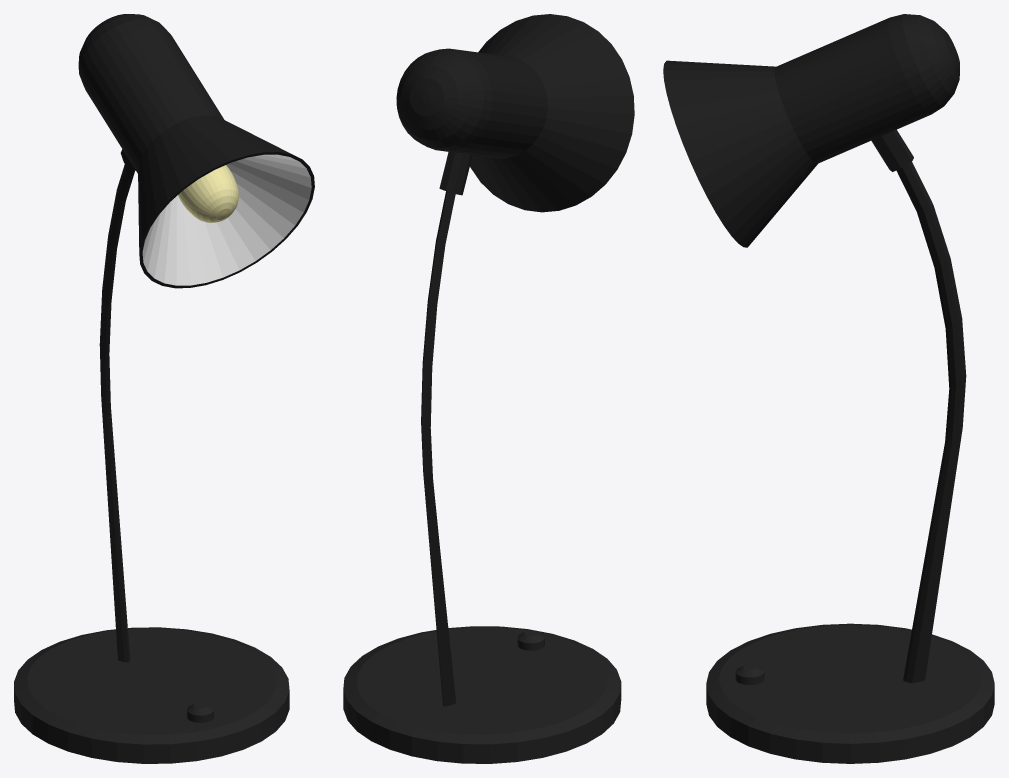
File: lamp_cahsi.glb
The picture shows the model from 3 angles, left to right: view 1: azimuth 30°, elevation 25°; view 2: azimuth 150°, elevation 25°; view 3: azimuth 270°, elevation 25°; orthographic projection. The views are drawn at different scales.
Visible parts, largest first — view 1: Cylinder, Cylinder.001; view 2: Cylinder, Cylinder.001; view 3: Cylinder, Cylinder.001.
Boxes of the visible parts, box(x1,y1,x2,y2) form: Cylinder: box(78, 14, 314, 662); Cylinder.001: box(14, 627, 289, 763); Cylinder: box(396, 14, 634, 706); Cylinder.001: box(343, 626, 621, 763); Cylinder: box(663, 14, 966, 683); Cylinder.001: box(706, 623, 994, 763).
Size of the model in its own units: 5.39 by 14.47 by 6.28.
